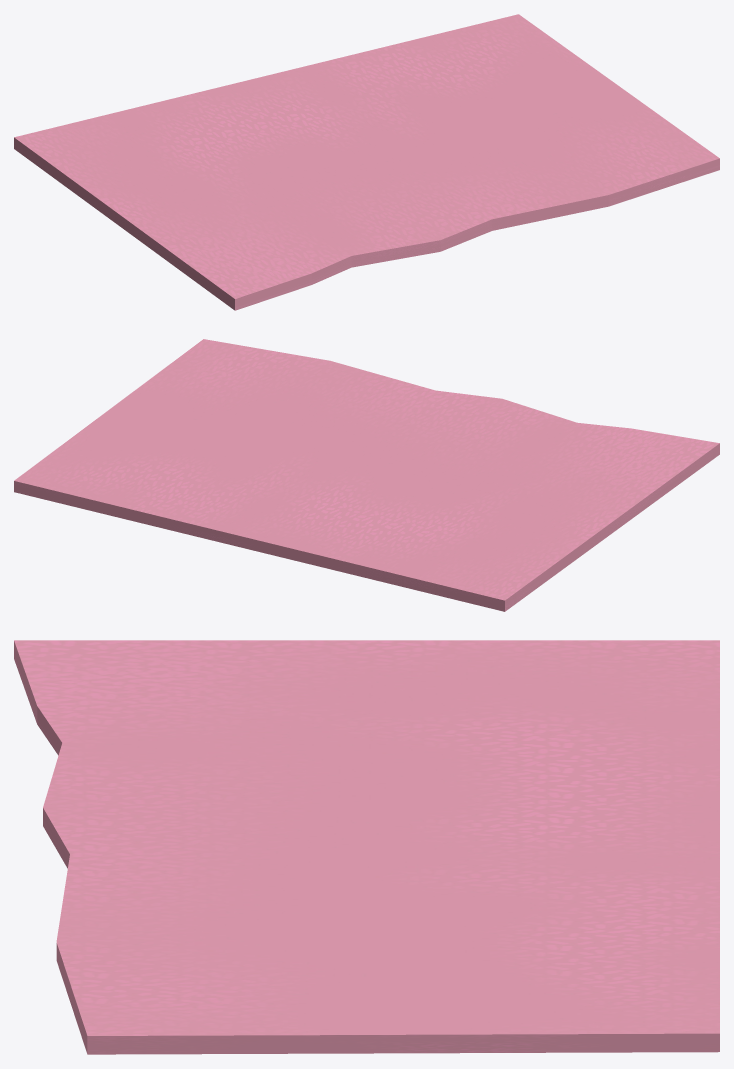
Rendered from Floor rich.fbx.
3 renders of one model, top to bottom at view 1: azimuth 30°, elevation 25°; view 2: azimuth 150°, elevation 25°; view 3: azimuth 270°, elevation 25°, orthographic. The views are drawn at different scales.
Parts seen in each view (by area): view 1: Cube.084; view 2: Cube.084; view 3: Cube.084.
Part boxes in pixels (box(x1,y1,x2,y2)): Cube.084: box(14, 14, 719, 310); Cube.084: box(14, 339, 719, 611); Cube.084: box(14, 640, 719, 1054).
Bounding box in the file's own units: 12447 × 272 × 9386.
Materials: 1 (1 with a texture image).
